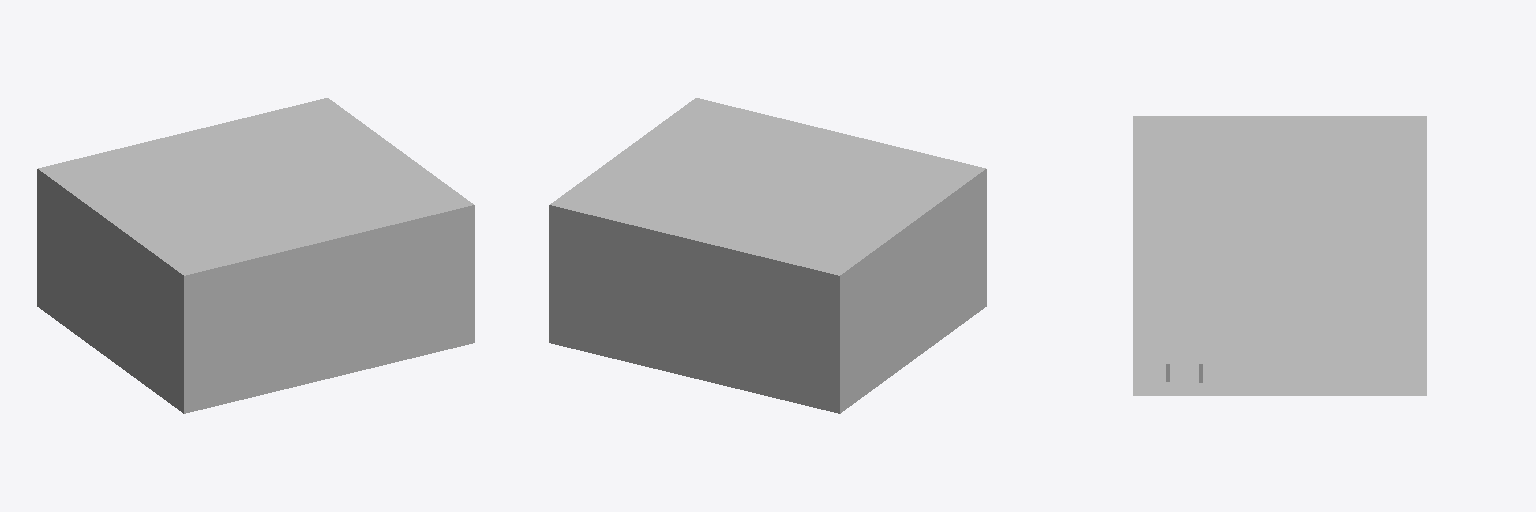
Rendered from room0.obj.
3 renders of one model, left to right at view 1: azimuth 30°, elevation 25°; view 2: azimuth 150°, elevation 25°; view 3: azimuth 270°, elevation 25°, orthographic.
Parts seen in each view (by area): view 1: RoomInt_Cube; view 2: RoomInt_Cube; view 3: RoomInt_Cube, DeskTop_Plane.
Boxes of the visible parts, x1,y1,x2,y2 form: RoomInt_Cube: [37, 98, 474, 413]; RoomInt_Cube: [549, 98, 986, 413]; RoomInt_Cube: [1133, 116, 1426, 395]; DeskTop_Plane: [1165, 316, 1203, 363].
Size of the model in its own units: 4.4 by 2.01 by 3.85.